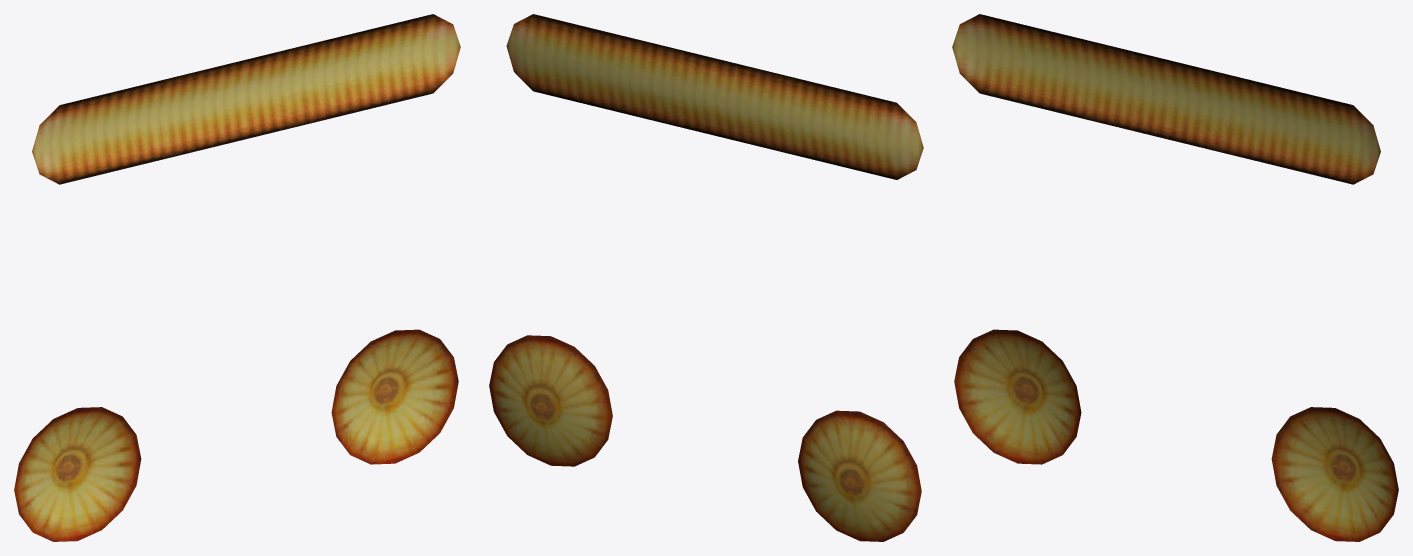
Rendered from kse_firespray_engine_s01_on_l0.fbx.
The picture shows the model from 3 angles, left to right: view 1: azimuth 30°, elevation 25°; view 2: azimuth 150°, elevation 25°; view 3: azimuth 330°, elevation 25°; orthographic projection. The views are drawn at different scales.
Visible parts, largest first — view 1: mesh_node; view 2: mesh_node; view 3: mesh_node.
Boxes of the visible parts, bbox=[...] form: mesh_node: bbox=[14, 14, 460, 541]; mesh_node: bbox=[489, 14, 923, 541]; mesh_node: bbox=[952, 14, 1398, 541].
Size of the model in its own units: 5.88 by 5.69 by 0.4722.
1 material, 1 textured.
